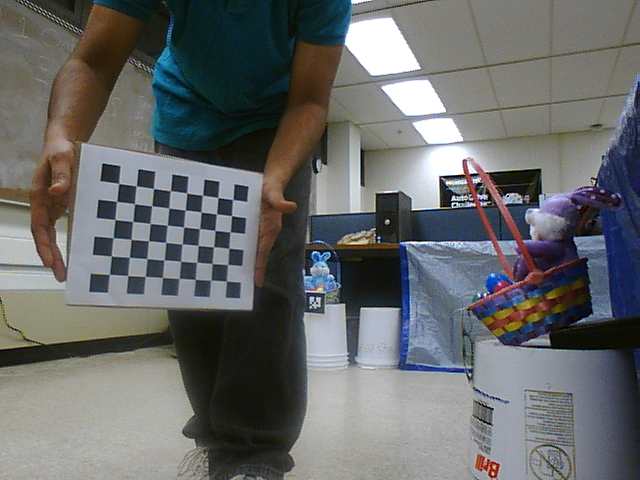bunny: (455, 148, 608, 351)
